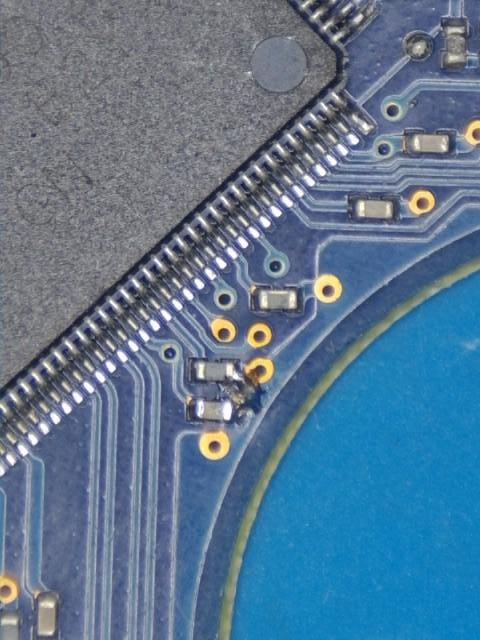pcb_defect: (216, 365, 243, 420)
